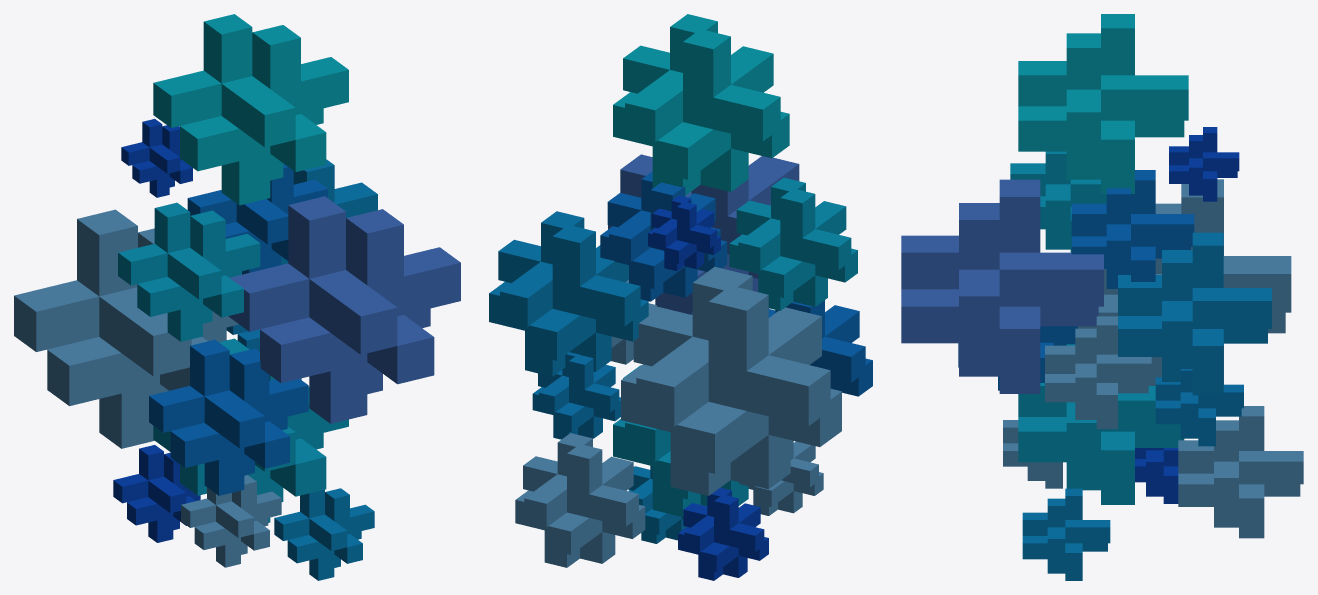
File: Spell Power Rune.fbx
3 views of the same model, side by side, from view 1: azimuth 30°, elevation 25°; view 2: azimuth 150°, elevation 25°; view 3: azimuth 270°, elevation 25° (orthographic). The views are drawn at different scales.
Visible parts, largest first — view 1: pCube5, pCube7, pCube2, pCube6, pCube8, pCube13, pCube1, pCube12, pCube9, pCube11, pCube15, pCube14; view 2: pCube2, pCube7, pCube14, pCube3, pCube8, pCube9, pCube11, pCube10, pCube5, pCube1, pCube6, pCube15 (+3 smaller); view 3: pCube5, pCube7, pCube14, pCube1, pCube3, pCube9, pCube4, pCube2, pCube13, pCube8, pCube10, pCube15 (+3 smaller).
Boxes of the visible parts, bbox=[...] form: pCube5: bbox=[228, 196, 460, 423]; pCube7: bbox=[153, 14, 348, 205]; pCube2: bbox=[14, 209, 238, 448]; pCube6: bbox=[149, 339, 308, 495]; pCube8: bbox=[118, 202, 260, 341]; pCube13: bbox=[274, 488, 374, 580]; pCube1: bbox=[153, 338, 348, 522]; pCube12: bbox=[181, 475, 281, 567]; pCube9: bbox=[187, 163, 327, 274]; pCube11: bbox=[113, 445, 200, 542]; pCube15: bbox=[121, 119, 192, 197]; pCube14: bbox=[281, 159, 377, 264]; pCube2: bbox=[621, 266, 841, 495]; pCube7: bbox=[613, 14, 789, 195]; pCube14: bbox=[489, 211, 648, 376]; pCube3: bbox=[515, 433, 645, 567]; pCube8: bbox=[729, 177, 857, 310]; pCube9: bbox=[600, 171, 727, 301]; pCube11: bbox=[678, 487, 768, 580]; pCube10: bbox=[532, 352, 620, 439]; pCube5: bbox=[608, 154, 799, 314]; pCube1: bbox=[613, 365, 748, 516]; pCube6: bbox=[768, 300, 872, 396]; pCube15: bbox=[648, 195, 720, 271]; pCube5: bbox=[901, 179, 1103, 393]; pCube7: bbox=[1018, 14, 1188, 193]; pCube14: bbox=[1118, 232, 1271, 395]; pCube1: bbox=[1018, 344, 1184, 504]; pCube3: bbox=[1178, 406, 1303, 538]; pCube9: bbox=[1071, 170, 1194, 288]; pCube4: bbox=[1045, 316, 1151, 428]; pCube2: bbox=[1078, 179, 1291, 385]; pCube13: bbox=[1022, 488, 1110, 580]; pCube8: bbox=[1010, 151, 1106, 252]; pCube10: bbox=[1155, 369, 1243, 446]; pCube15: bbox=[1169, 127, 1239, 201].
Size of the model in its own units: 5.95 by 9.31 by 6.53.
